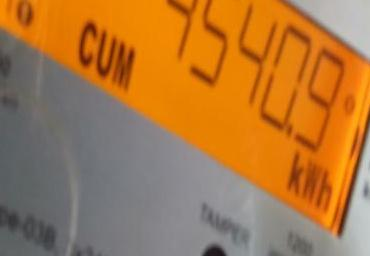0: (286, 124, 295, 135)
1: (257, 24, 313, 133)
5: (239, 3, 279, 109), (164, 0, 199, 62)
6: (189, 1, 235, 89)
:: (294, 46, 347, 152)
